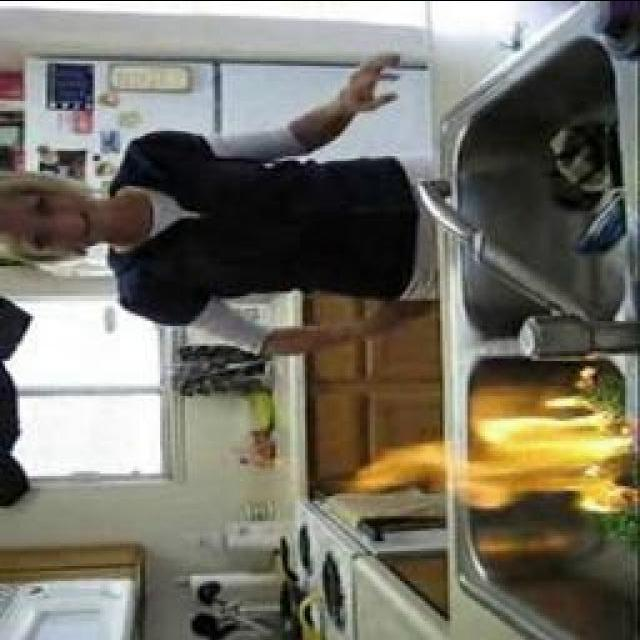Fire: (342, 394, 633, 511)
